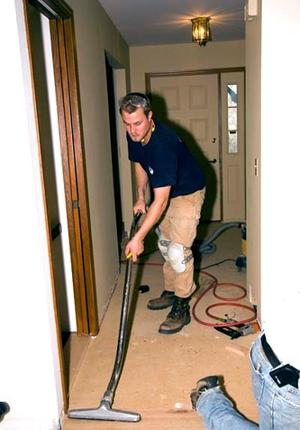person: (119, 91, 207, 337)
